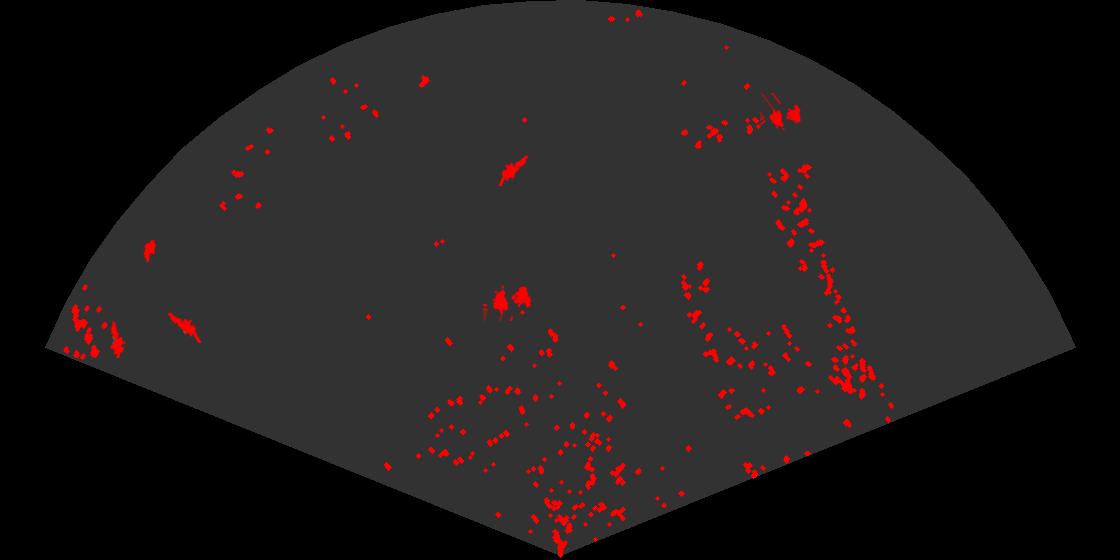AUV: (142, 238, 158, 264)
cage: (483, 284, 533, 321), (760, 93, 803, 132)
frogman: (165, 306, 201, 343), (497, 148, 531, 186), (109, 320, 127, 358)
